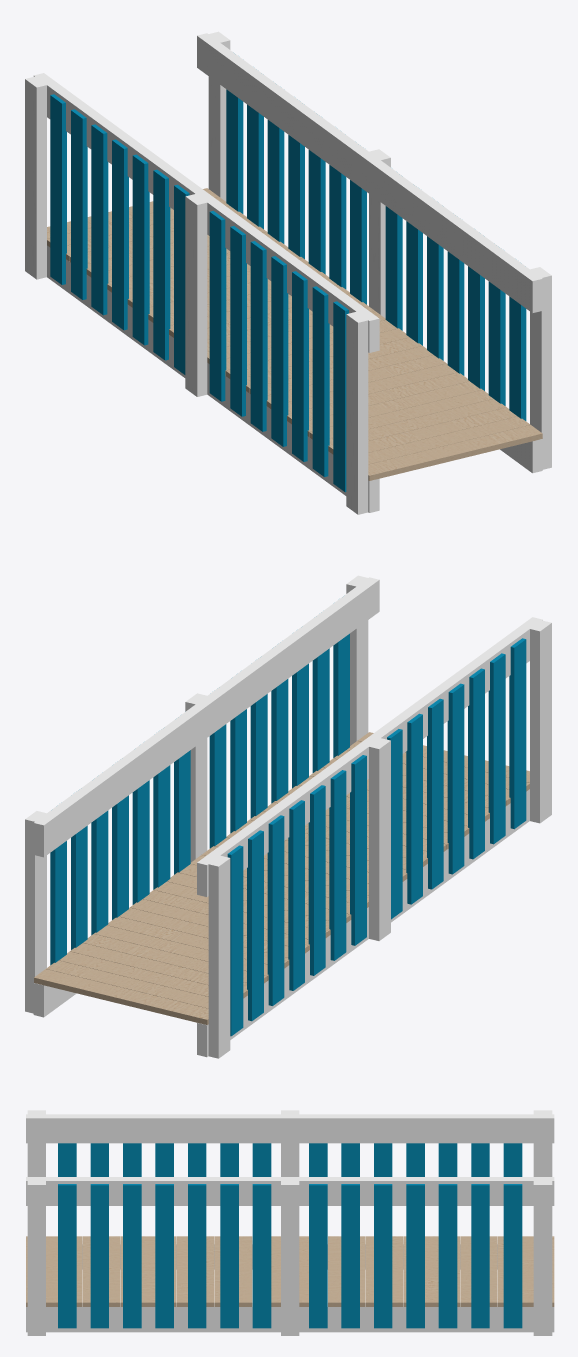
File: Bridge.glb
3 renders of one model, top to bottom at view 1: azimuth 30°, elevation 25°; view 2: azimuth 150°, elevation 25°; view 3: azimuth 270°, elevation 25°, orthographic. The views are drawn at different scales.
Parts seen in each view (by area): view 1: Cube117,_colorize_, Cube188, Cube188_1; view 2: Cube117,_colorize_, Cube188, Cube188_1; view 3: Cube117,_colorize_, Cube188, Cube188_1.
Boxes of the visible parts, x1,y1,x2,y2 form: Cube117,_colorize_: [50, 89, 526, 492]; Cube188: [25, 31, 551, 514]; Cube188_1: [47, 188, 542, 480]; Cube117,_colorize_: [50, 633, 526, 1036]; Cube188: [25, 575, 551, 1058]; Cube188_1: [34, 732, 529, 1024]; Cube117,_colorize_: [58, 1143, 522, 1328]; Cube188: [26, 1110, 554, 1335]; Cube188_1: [26, 1236, 554, 1306].
Bounding box in the file's own units: 1 × 1 × 3.01.
5 materials, 1 textured.
